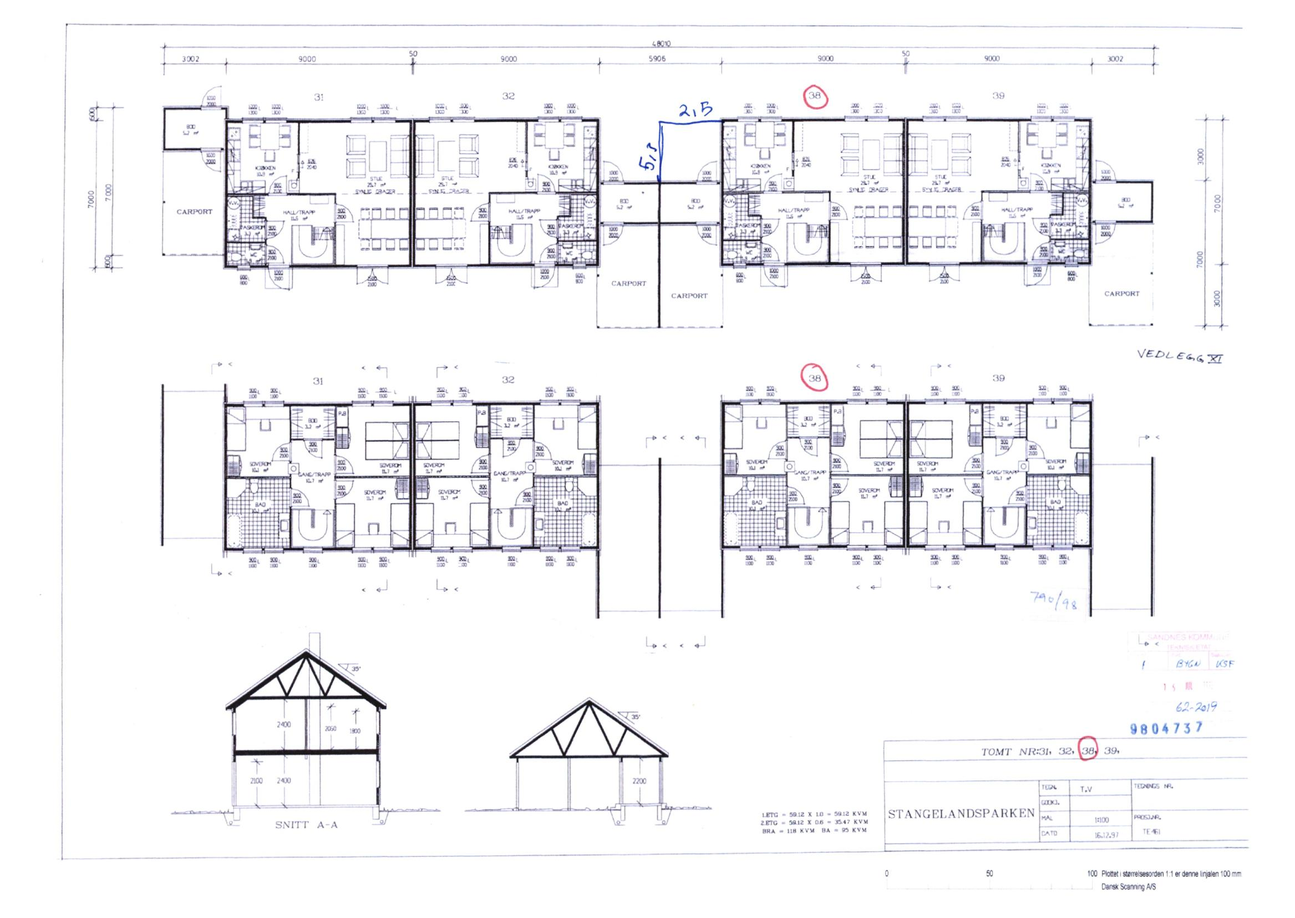plantegning: (161, 85, 659, 331), (659, 115, 1155, 329), (221, 381, 603, 555), (718, 396, 1096, 553)
snitt: (222, 630, 391, 828), (507, 695, 676, 827)
